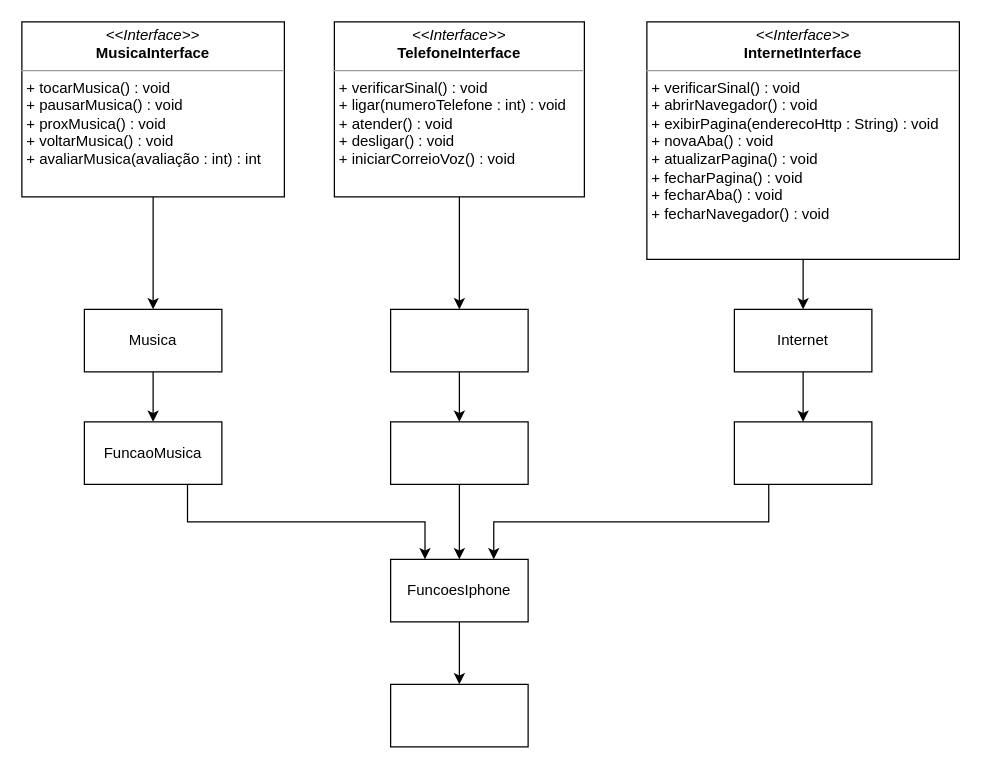
The diagram is 981 pixels wide and 769 high, and some of its shapes have lost their labels. Here are the shapes that lost their labels. From the top down, the centre of each, then its label:
the point at 458,340: Telefone
the point at 458,452: FuncaoTelefone
the point at 802,452: FuncaoInternet
the point at 458,715: Application
